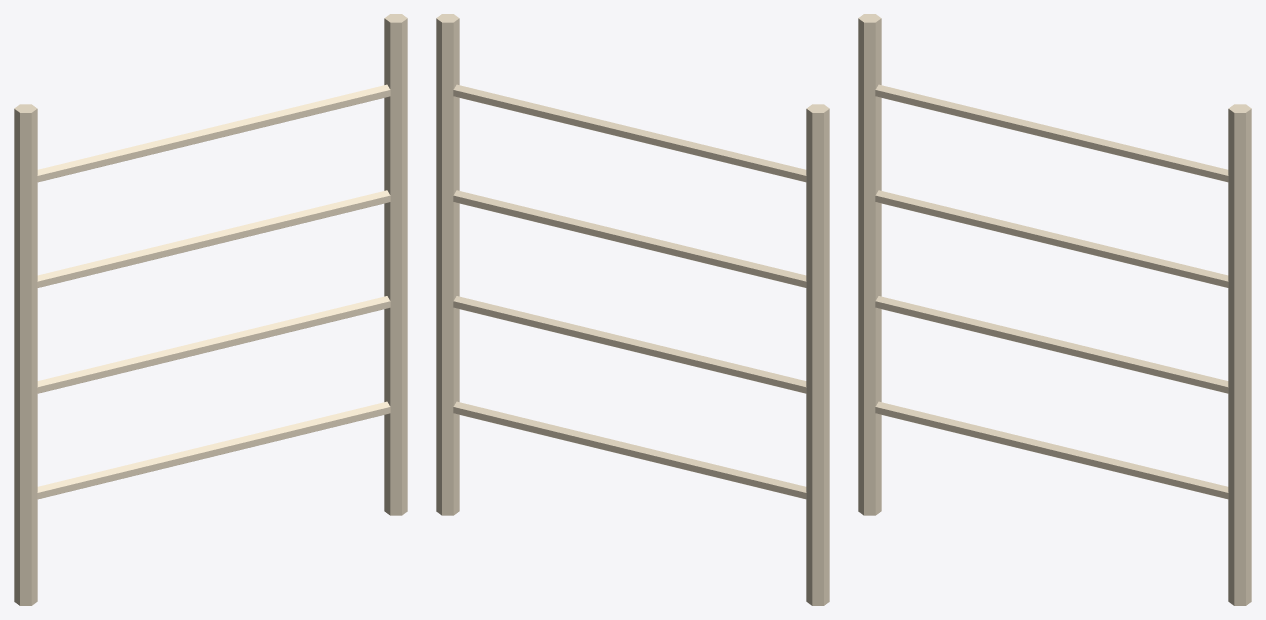
3 renders of one model, left to right at view 1: azimuth 30°, elevation 25°; view 2: azimuth 150°, elevation 25°; view 3: azimuth 330°, elevation 25°, orthographic.
Visible parts, largest first — view 1: Trellis upright, Trellis upright.001, Trellis crossbar.001, Trellis crossbar, Trellis crossbar.002, Trellis crossbar.003; view 2: Trellis upright, Trellis upright.001, Trellis crossbar.001, Trellis crossbar, Trellis crossbar.002, Trellis crossbar.003; view 3: Trellis upright.001, Trellis upright, Trellis crossbar.001, Trellis crossbar, Trellis crossbar.002, Trellis crossbar.003.
Boxes of the visible parts, x1,y1,x2,y2 form: Trellis upright: (14,104,37,605); Trellis upright.001: (384,14,407,515); Trellis crossbar.001: (37,296,390,393); Trellis crossbar: (37,401,390,499); Trellis crossbar.002: (37,190,390,287); Trellis crossbar.003: (37,84,390,182); Trellis upright: (806,104,829,605); Trellis upright.001: (436,14,459,515); Trellis crossbar.001: (453,296,806,393); Trellis crossbar: (453,401,806,499); Trellis crossbar.002: (453,190,806,287); Trellis crossbar.003: (453,84,806,182); Trellis upright.001: (1228,104,1251,605); Trellis upright: (858,14,881,515); Trellis crossbar.001: (875,296,1228,393); Trellis crossbar: (875,401,1228,499); Trellis crossbar.002: (875,190,1228,287); Trellis crossbar.003: (875,84,1228,182).
Size of the model in its own units: 115 by 140 by 6.
